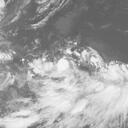cyclone: (28, 49, 99, 107)
